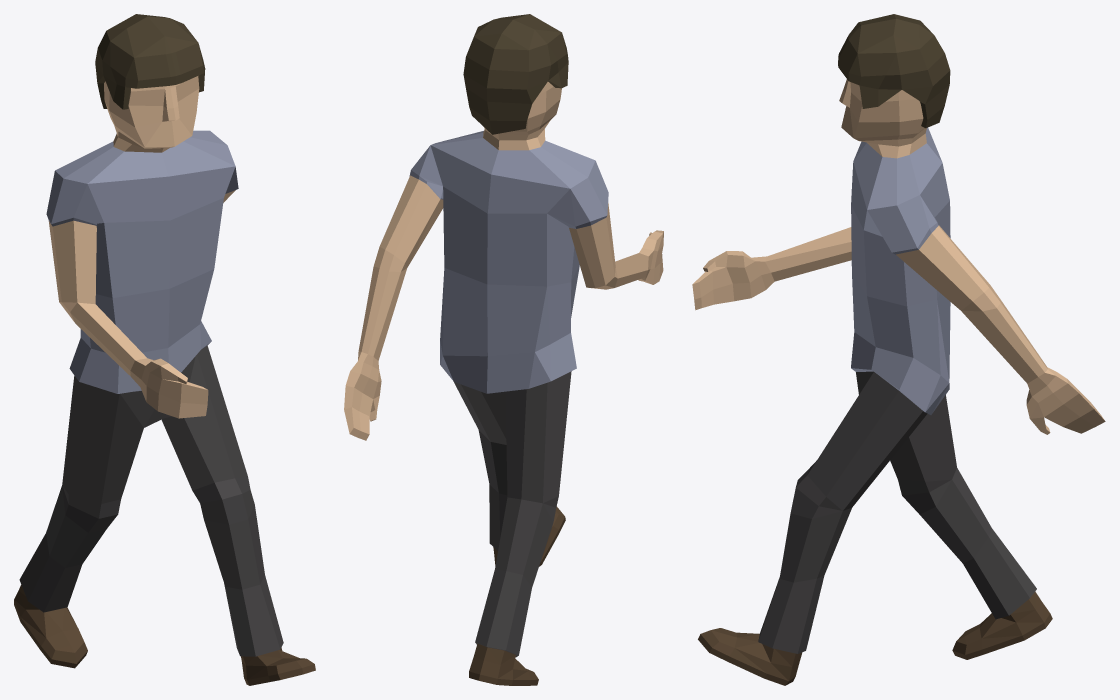
File: Male_Running.glb
3 views of the same model, side by side, from view 1: azimuth 30°, elevation 25°; view 2: azimuth 150°, elevation 25°; view 3: azimuth 270°, elevation 25° (orthographic). The views are drawn at different scales.
Visible parts, largest first — view 1: Male_Running; view 2: Male_Running; view 3: Male_Running.
Part boxes in pixels (x1,y1,x2,y2): Male_Running: (14,14,315,685); Male_Running: (344,14,663,685); Male_Running: (692,14,1105,685).
Bounding box in the file's own units: 0.5643 × 1.81 × 1.03.
